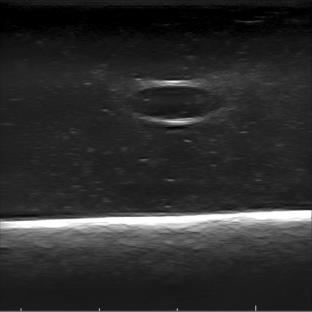vessel: (128, 80, 224, 125)
